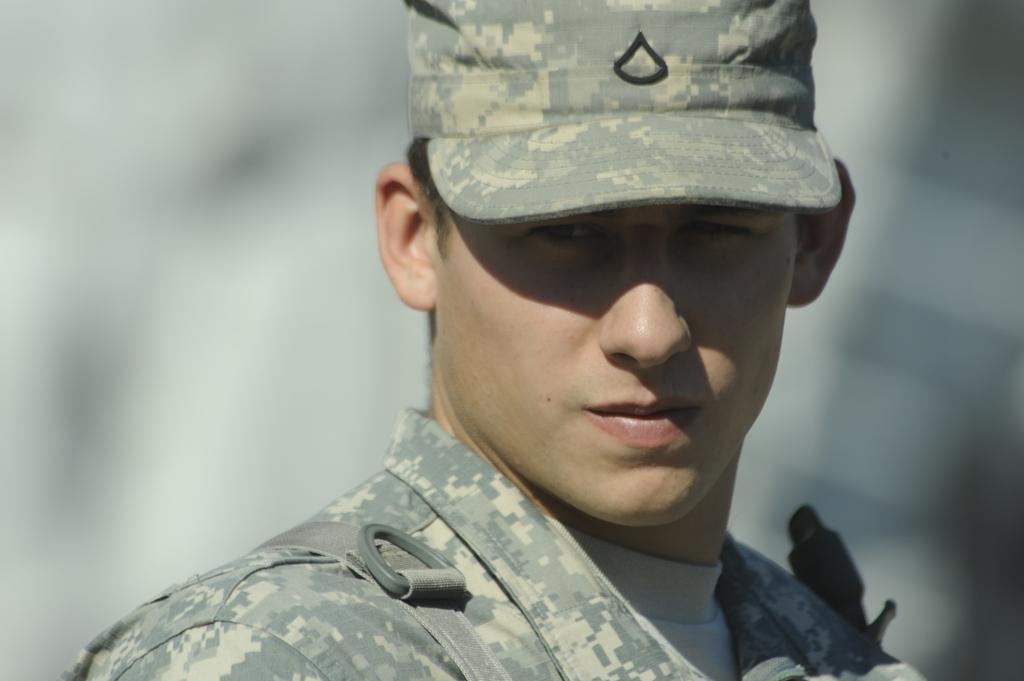Hat: (399, 0, 849, 231)
